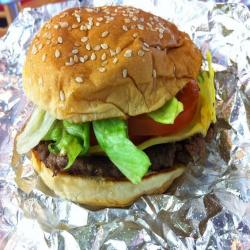burger: (26, 12, 215, 209)
